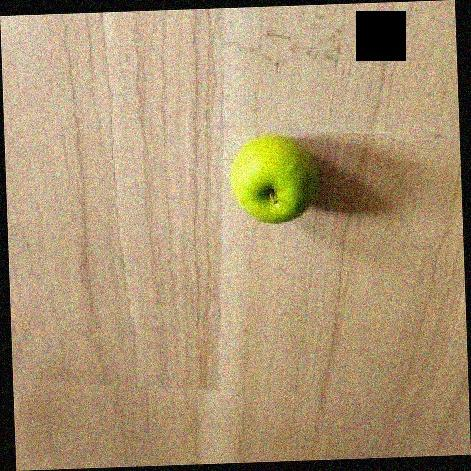green apple: (226, 129, 322, 230)
